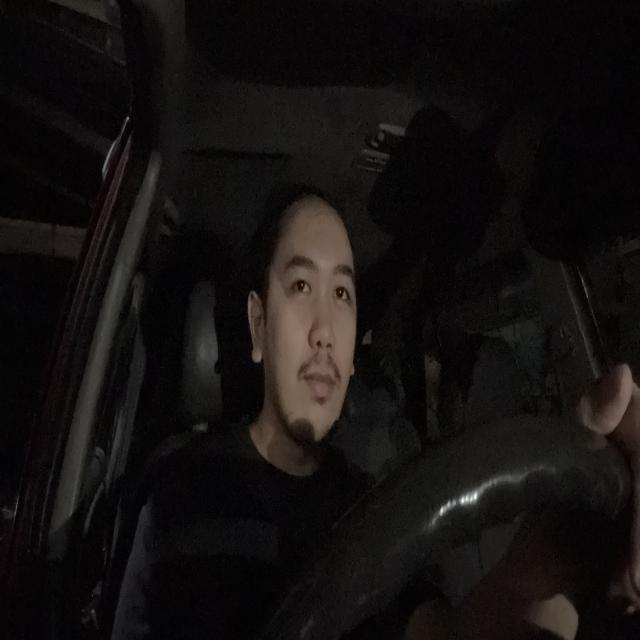open: (281, 252, 318, 308), (332, 260, 357, 319)
